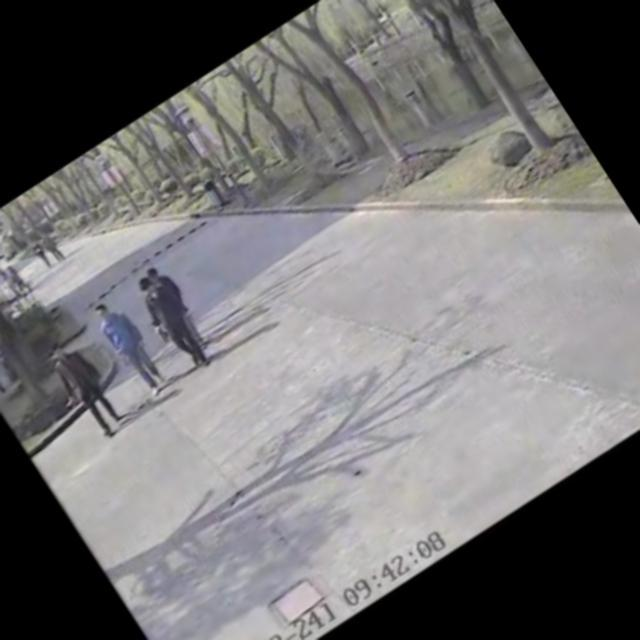person: (28, 322, 142, 454), (121, 260, 222, 384), (83, 287, 182, 407), (32, 221, 74, 271), (22, 236, 59, 277), (0, 335, 15, 405)
